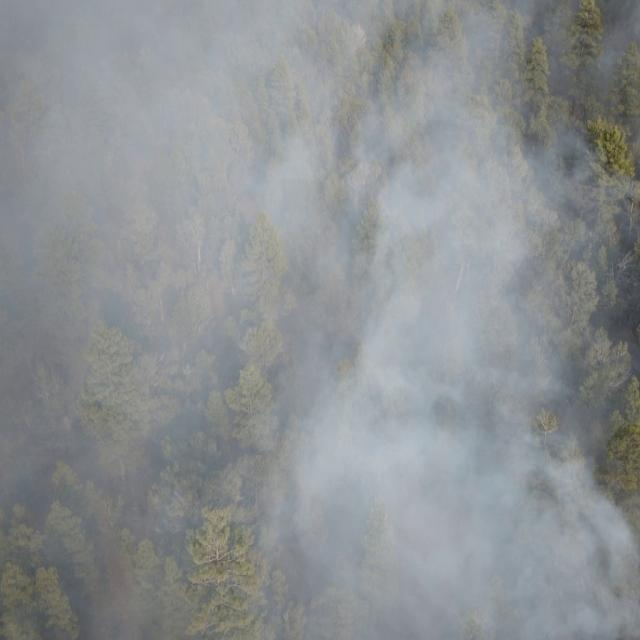smoke: (0, 0, 595, 640), (594, 170, 640, 640), (595, 1, 640, 117), (626, 114, 640, 170)
